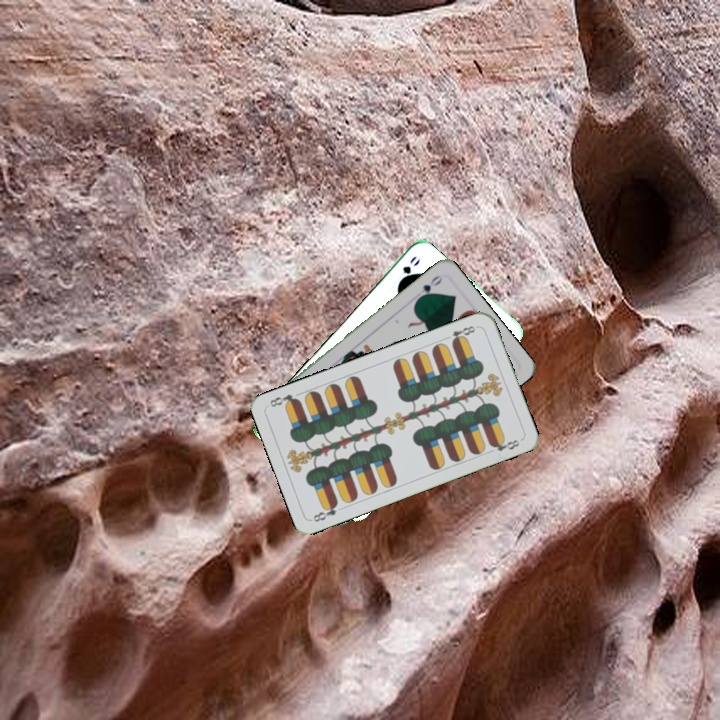E8: (441, 322, 480, 346), (309, 498, 340, 525)
GO: (394, 252, 423, 288), (413, 271, 445, 303)
